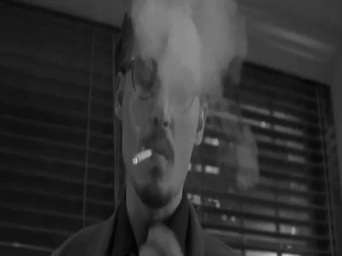smoke: (130, 149, 155, 165)
